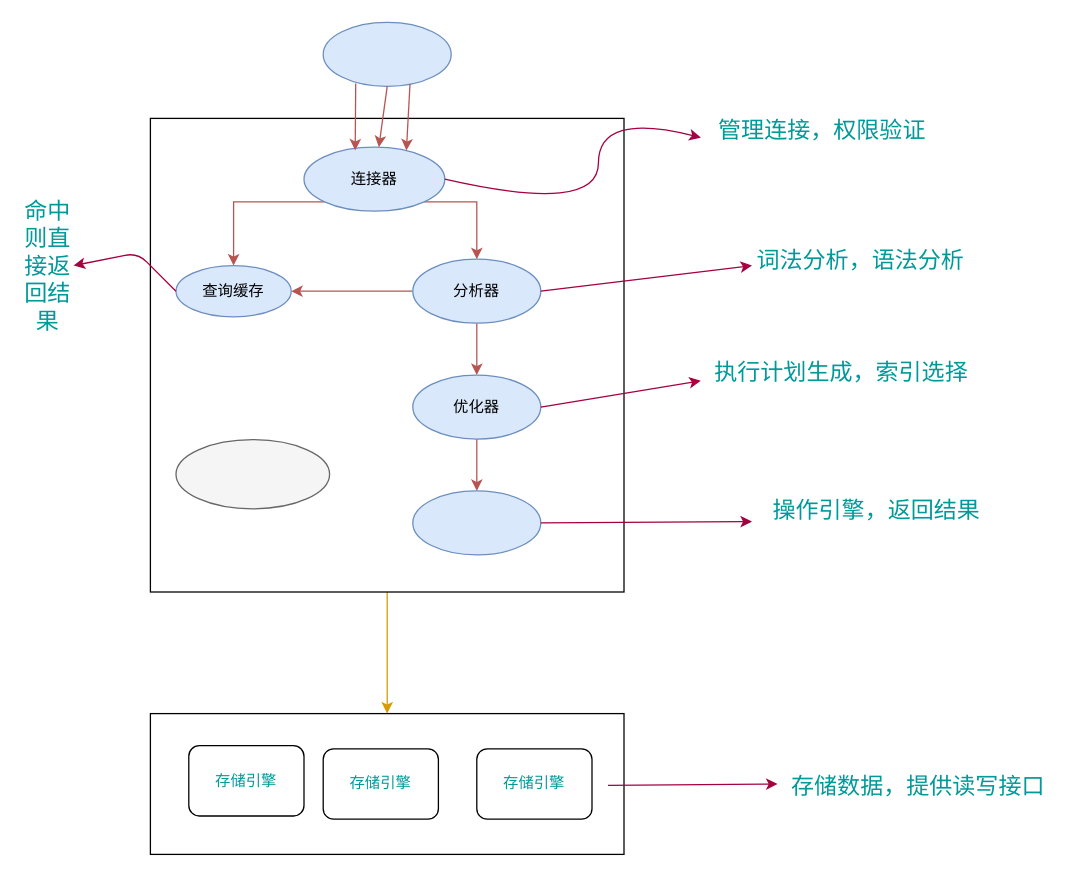
Image size: 1068x877. Some labels were removed from this diagram. Here are the shapes that lost their labels. From the top down, the centre of each, then its label:
the point at 386,53: 客户端
the point at 252,473: Service层
the point at 476,522: 执行器
